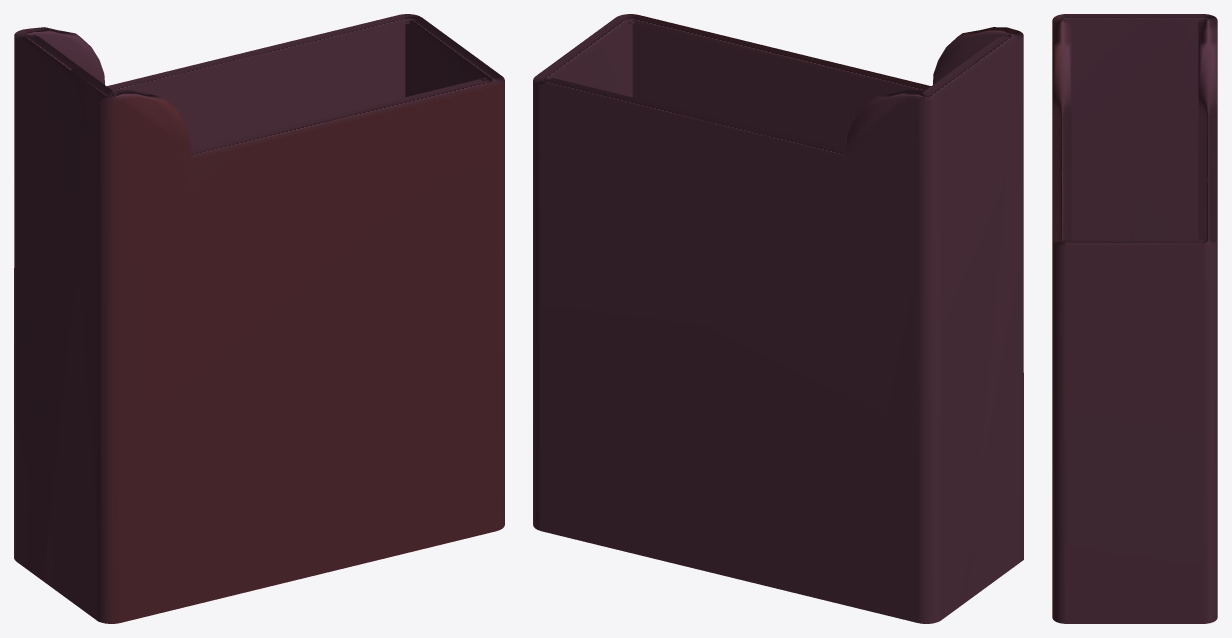
File: kibrit.glb
The picture shows the model from 3 angles, left to right: view 1: azimuth 30°, elevation 25°; view 2: azimuth 150°, elevation 25°; view 3: azimuth 270°, elevation 25°; orthographic projection. The views are drawn at different scales.
Visible parts, largest first — view 1: s 4; view 2: s 4; view 3: s 4.
Part boxes in pixels (x1,y1,x2,y2): s 4: (14,14,504,623); s 4: (533,14,1023,623); s 4: (1052,14,1217,623).
Size of the model in its own units: 0.0248 by 0.0305 by 0.0103.
Materials: 5 (4 with a texture image).
